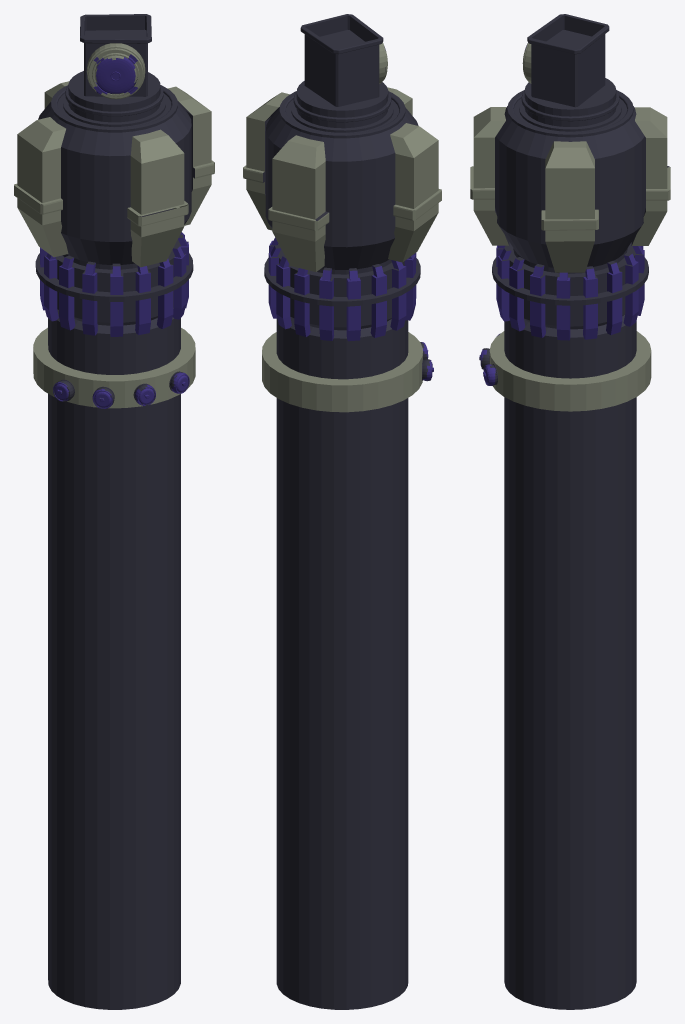
Rendered from nbox3.fbx.
3 renders of one model, left to right at view 1: azimuth 30°, elevation 25°; view 2: azimuth 150°, elevation 25°; view 3: azimuth 270°, elevation 25°, orthographic.
Visible parts, largest first — view 1: 前景主要高烟囱; view 2: 前景主要高烟囱; view 3: 前景主要高烟囱.
Boxes of the visible parts, <box> form: 前景主要高烟囱: <box>14,14,214,1009</box>; 前景主要高烟囱: <box>243,14,441,1009</box>; 前景主要高烟囱: <box>470,14,670,1009</box>.
Size of the model in its own units: 132 by 689 by 132.
